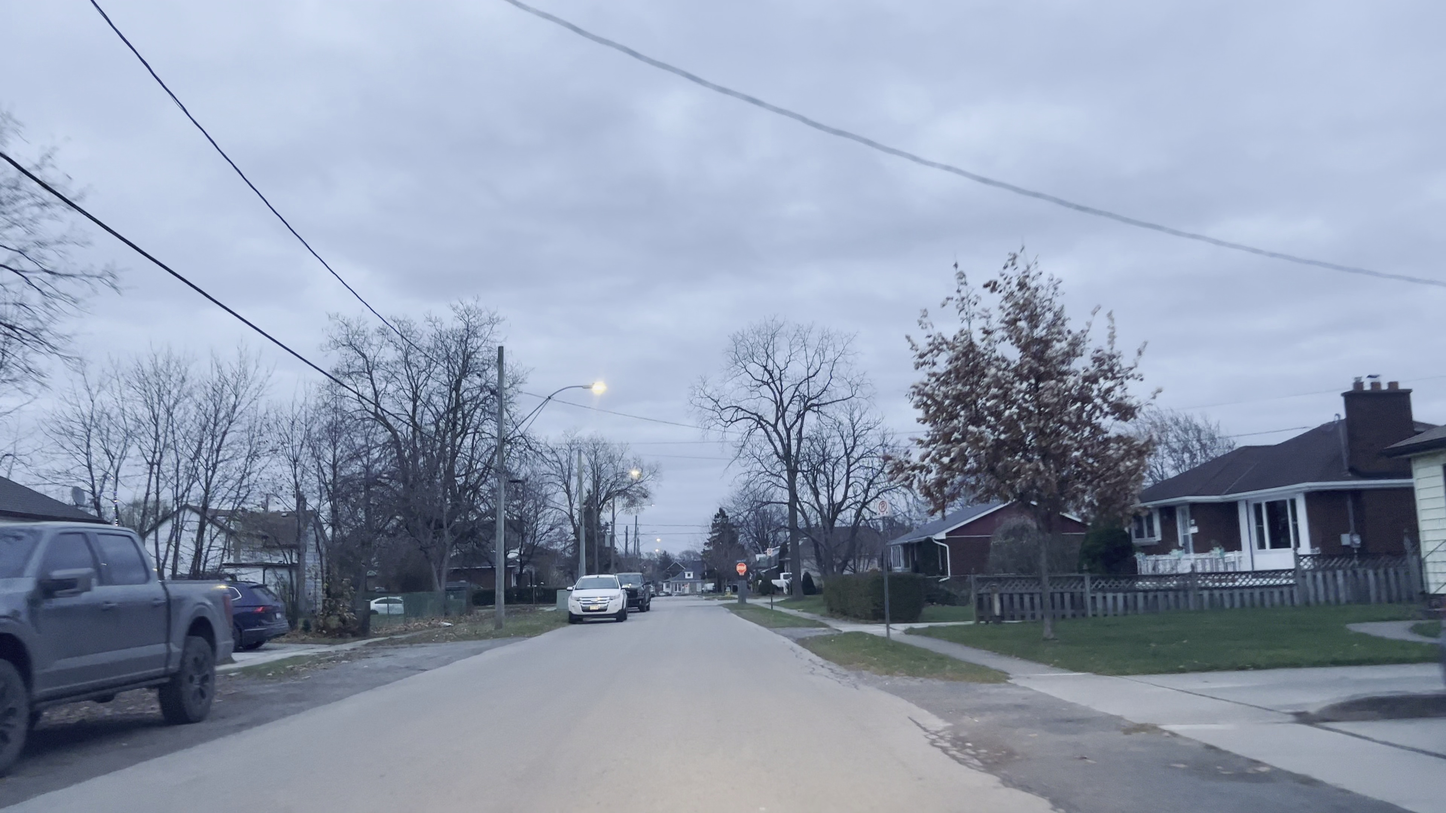cracks: (907, 706, 1008, 773)
